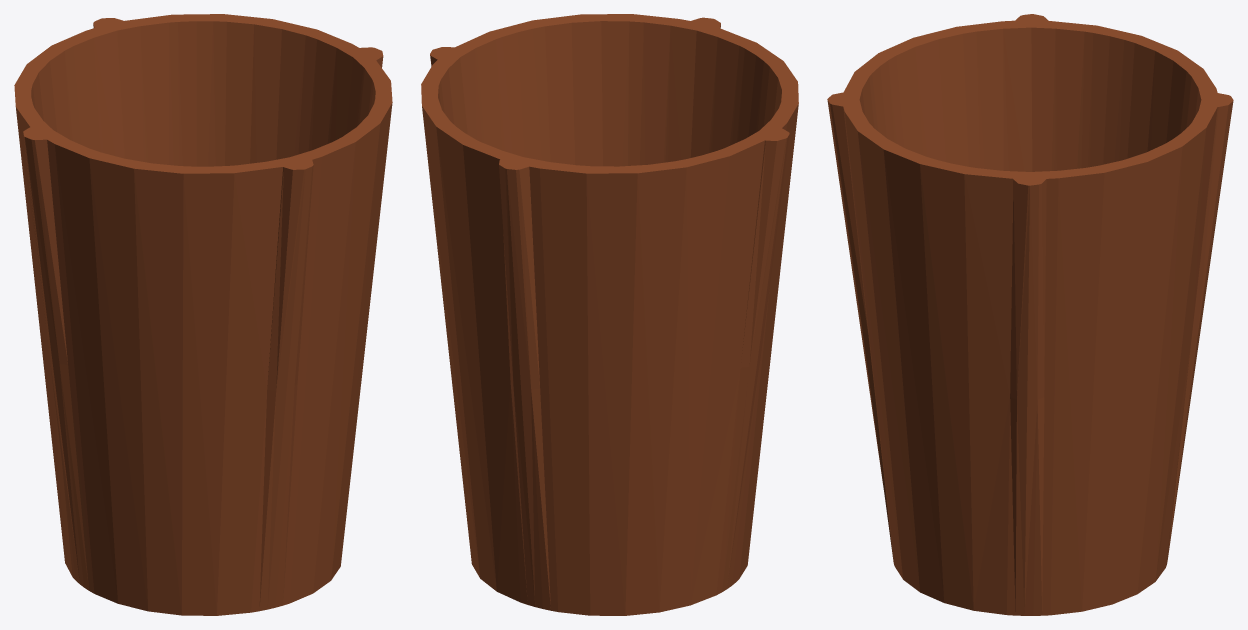
Rendered from WashRoomDustBin.dae.
3 views of the same model, side by side, from view 1: azimuth 30°, elevation 25°; view 2: azimuth 150°, elevation 25°; view 3: azimuth 270°, elevation 25° (orthographic).
Parts seen in each view (by area): view 1: Dust Bin 01; view 2: Dust Bin 01; view 3: Dust Bin 01.
Boxes of the visible parts, bbox=[...] form: Dust Bin 01: bbox=[14, 14, 392, 615]; Dust Bin 01: bbox=[421, 14, 798, 615]; Dust Bin 01: bbox=[827, 14, 1233, 615].
Bounding box in the file's own units: 0.3696 × 0.3696 × 0.46.
